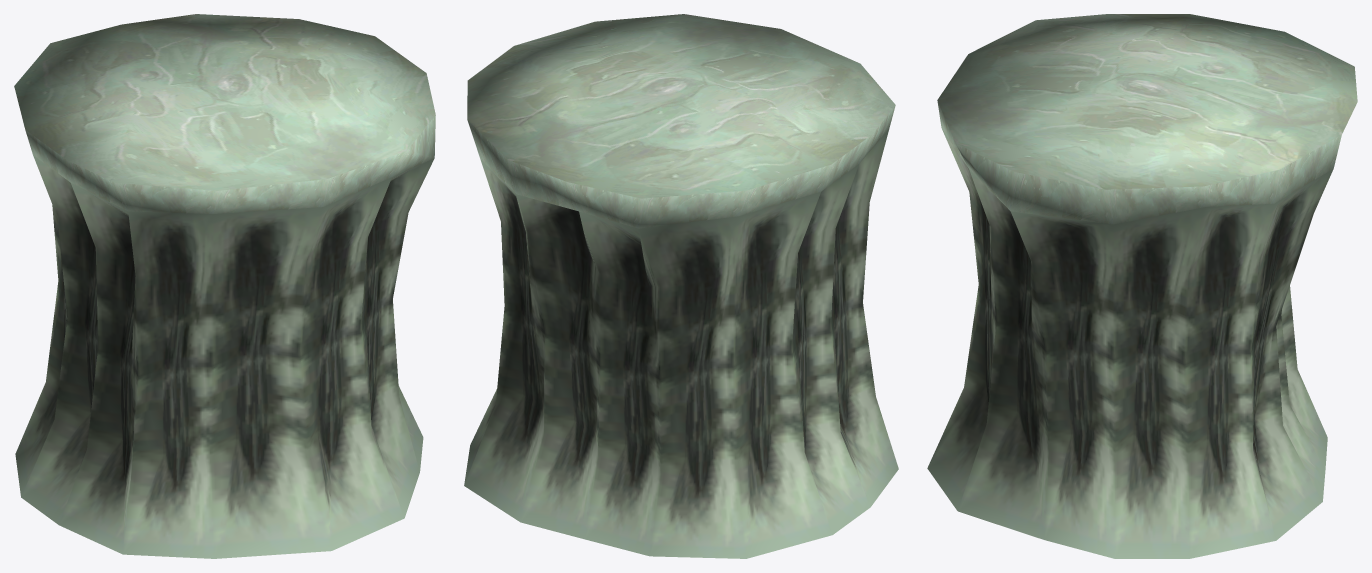
File: INST_TROLLHOLE_PLATFORM2M.fbx
The picture shows the model from 3 angles, left to right: view 1: azimuth 30°, elevation 25°; view 2: azimuth 150°, elevation 25°; view 3: azimuth 270°, elevation 25°; orthographic projection.
Parts seen in each view (by area): view 1: INST_TROLLHOLE_PLATFORM2M; view 2: INST_TROLLHOLE_PLATFORM2M; view 3: INST_TROLLHOLE_PLATFORM2M.
Part boxes in pixels (x1,y1,x2,y2): INST_TROLLHOLE_PLATFORM2M: (14, 14, 435, 558); INST_TROLLHOLE_PLATFORM2M: (464, 14, 898, 558); INST_TROLLHOLE_PLATFORM2M: (927, 14, 1357, 558).
Bounding box in the file's own units: 22012 × 22327 × 22539.
Materials: 2 (2 with a texture image).
